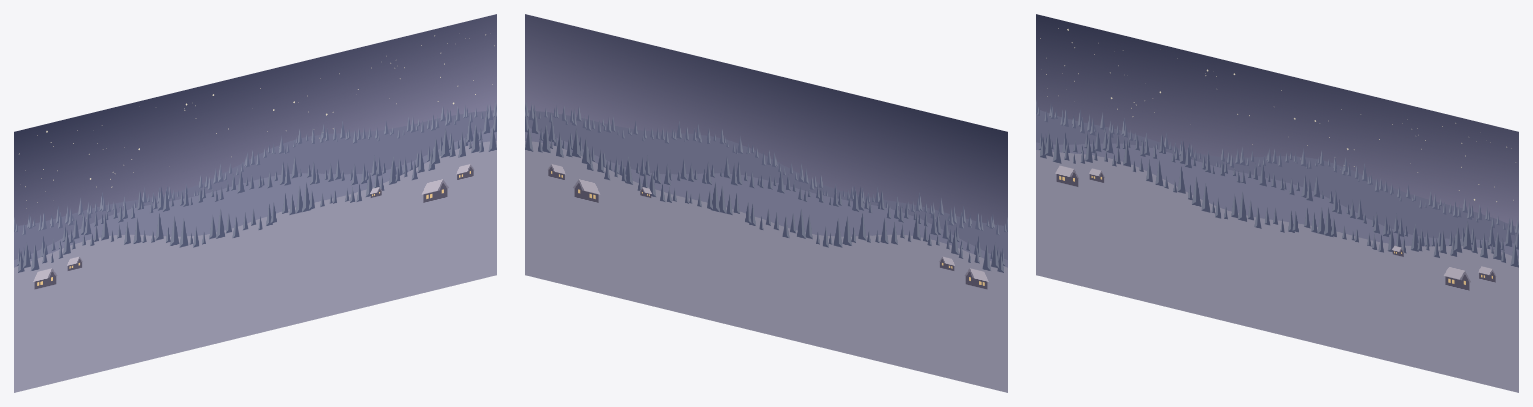
Rendered from academy-sky.glb.
3 views of the same model, side by side, from view 1: azimuth 30°, elevation 25°; view 2: azimuth 150°, elevation 25°; view 3: azimuth 330°, elevation 25° (orthographic).
Parts seen in each view (by area): view 1: Sky; view 2: Sky; view 3: Sky.
Boxes of the visible parts, x1=… form: Sky: x1=14, y1=14, x2=496, y2=392; Sky: x1=525, y1=14, x2=1007, y2=392; Sky: x1=1036, y1=14, x2=1518, y2=392.
Size of the model in its own units: 2.4 by 1.24 by 0.004.
Materials: 2 (1 with a texture image).
